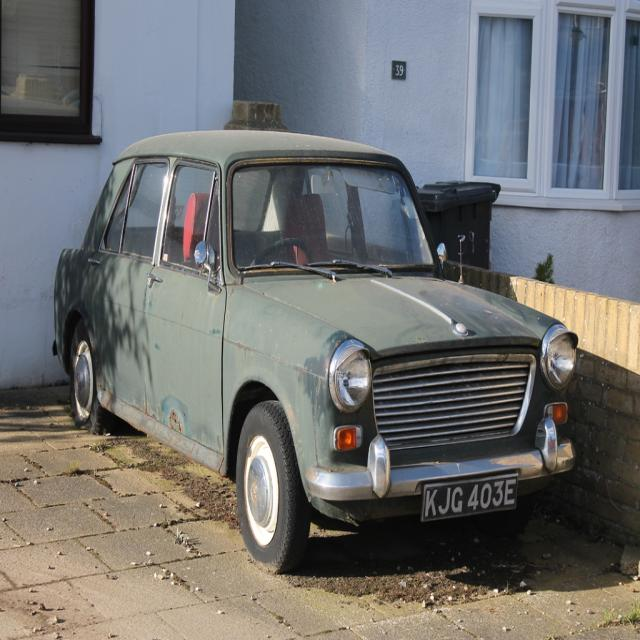car: (57, 130, 565, 578)
